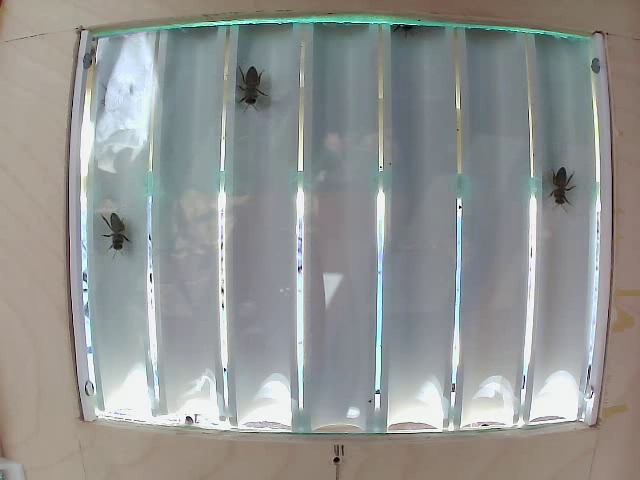bee: (85, 215, 155, 252), (558, 152, 585, 227), (239, 57, 265, 119)
